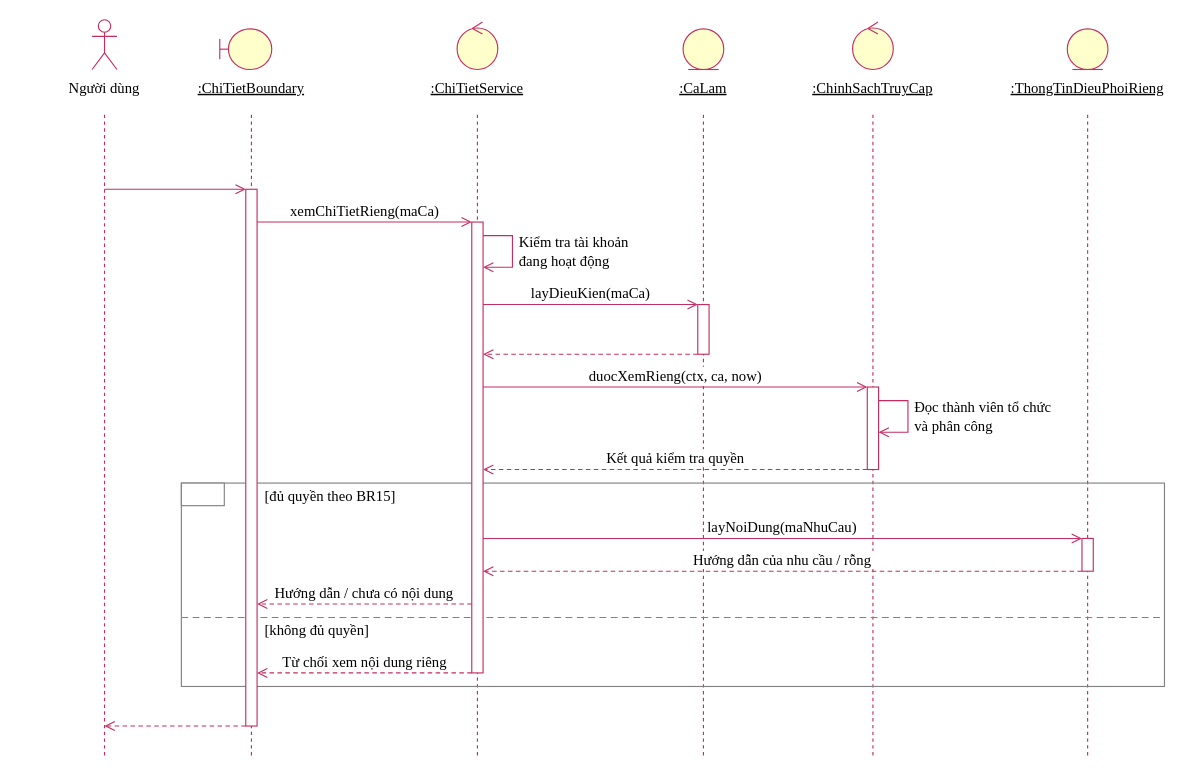
Image size: 1191x776. Some labels were removed from this diagram. Each missing label, with the box of its shape:
alt: (180, 482, 224, 506)
Chọn Xem thông tin điều phối riêng: (105, 151, 244, 185)
Hiển thị kết quả: (112, 705, 237, 722)
Nhu cầu, tổ chức, trạng thái, giờ kết thúc: (498, 316, 681, 350)
